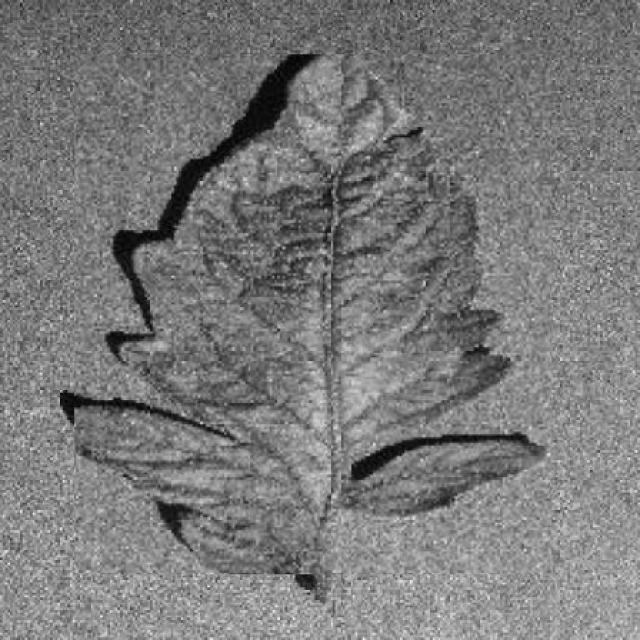Mosaic Virus: (75, 55, 551, 574)
